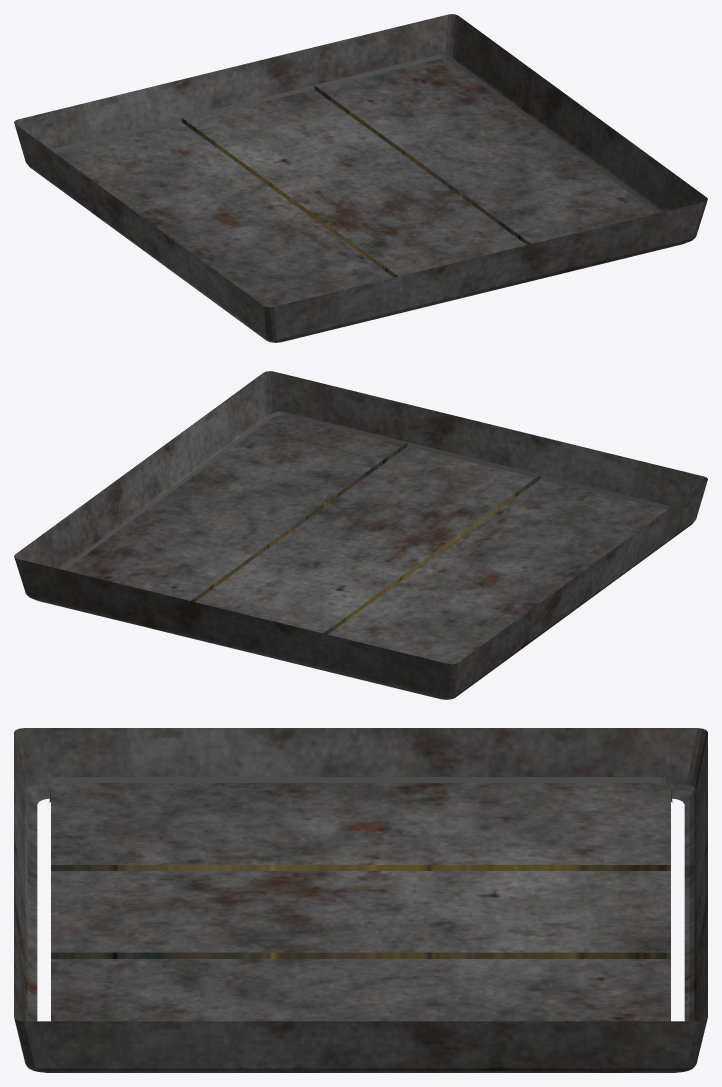
The model's file is ceiling_lamp_1.fbx.
The picture shows the model from 3 angles, top to bottom: view 1: azimuth 30°, elevation 25°; view 2: azimuth 150°, elevation 25°; view 3: azimuth 270°, elevation 25°; orthographic projection. The views are drawn at different scales.
Parts seen in each view (by area): view 1: ceiling_lamp_1; view 2: ceiling_lamp_1; view 3: ceiling_lamp_1.
Boxes of the visible parts, x1,y1,x2,y2 form: ceiling_lamp_1: (14,14,707,342); ceiling_lamp_1: (14,371,707,699); ceiling_lamp_1: (14,728,707,1072).
Size of the model in its own units: 104 by 10 by 104.
